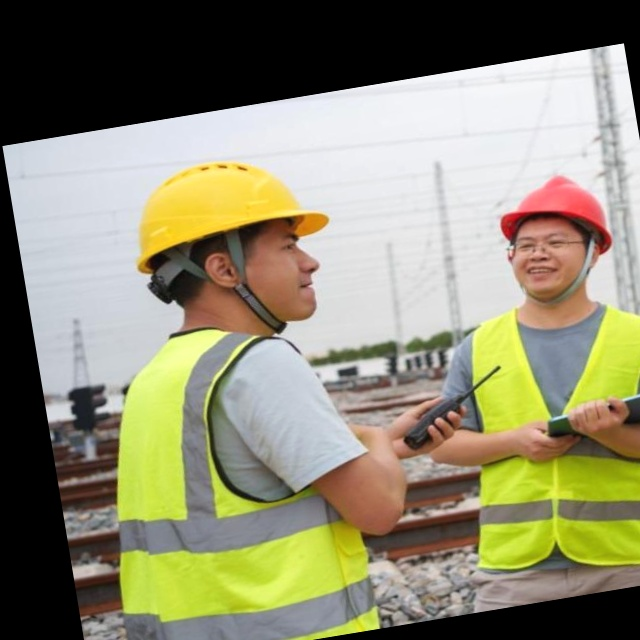Con_Casco: (123, 144, 344, 347), (486, 167, 625, 304)
Con_Chaleco: (84, 312, 387, 640), (441, 286, 640, 584)
